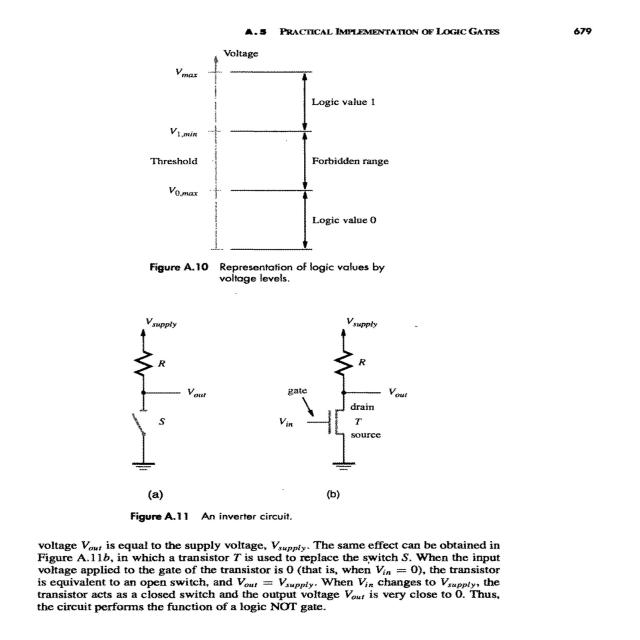diagram: (77, 45, 533, 535)
